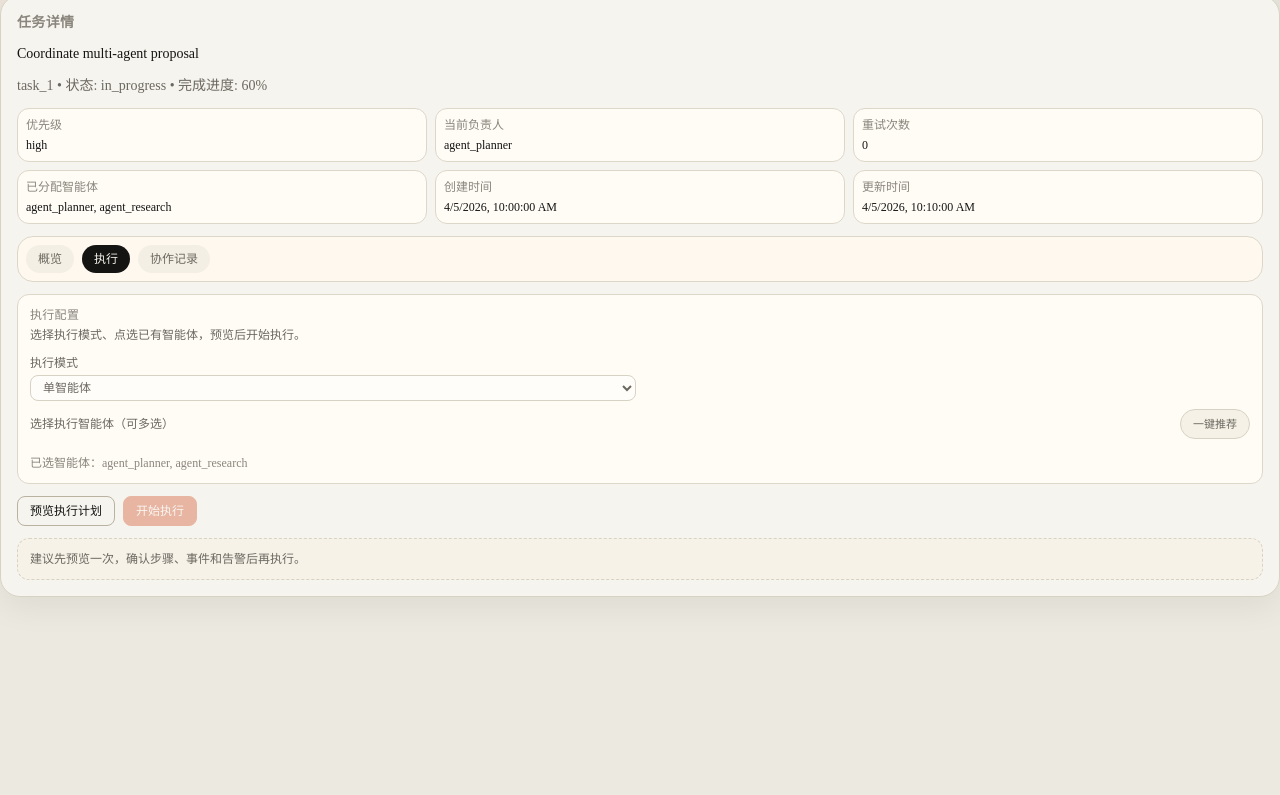
Test: TaskDetail › renders a larger workflow overview within a soft budget
Step 1. Click the button with test id "task-detail-tab-overview" → [50, 259], box [26, 245, 74, 273]
(page scrolled)
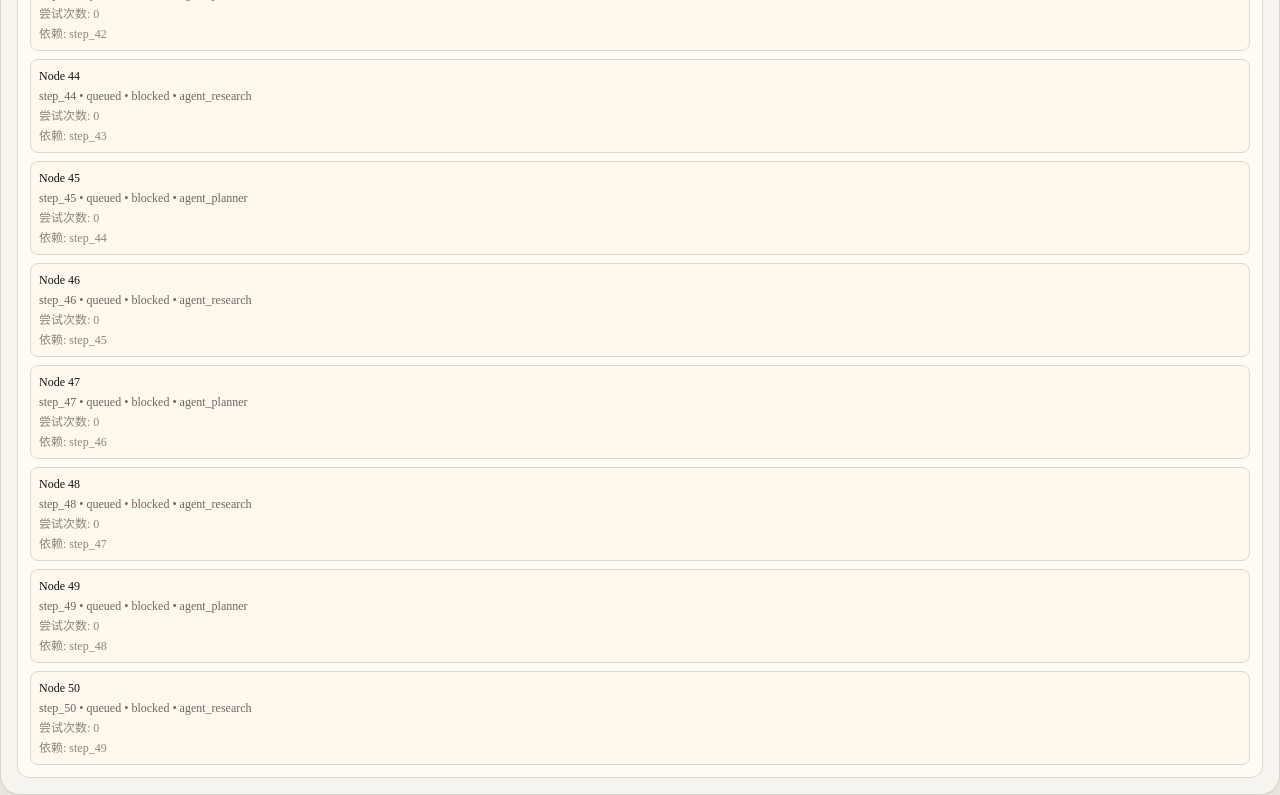
Expected: the text "Node 50" is shown, [39, 681, 80, 695]
